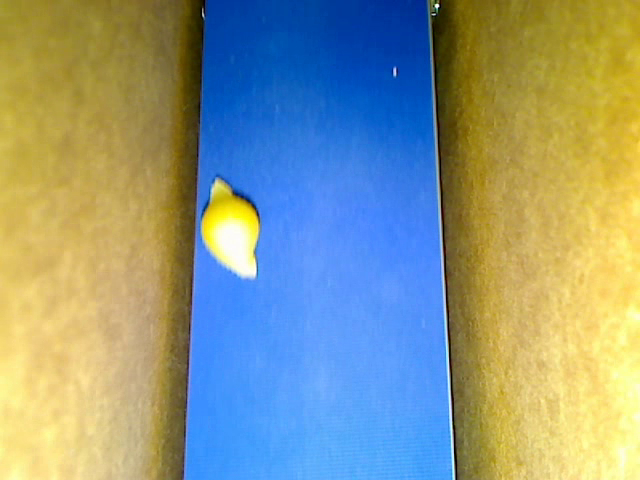shell: (200, 175, 259, 278)
